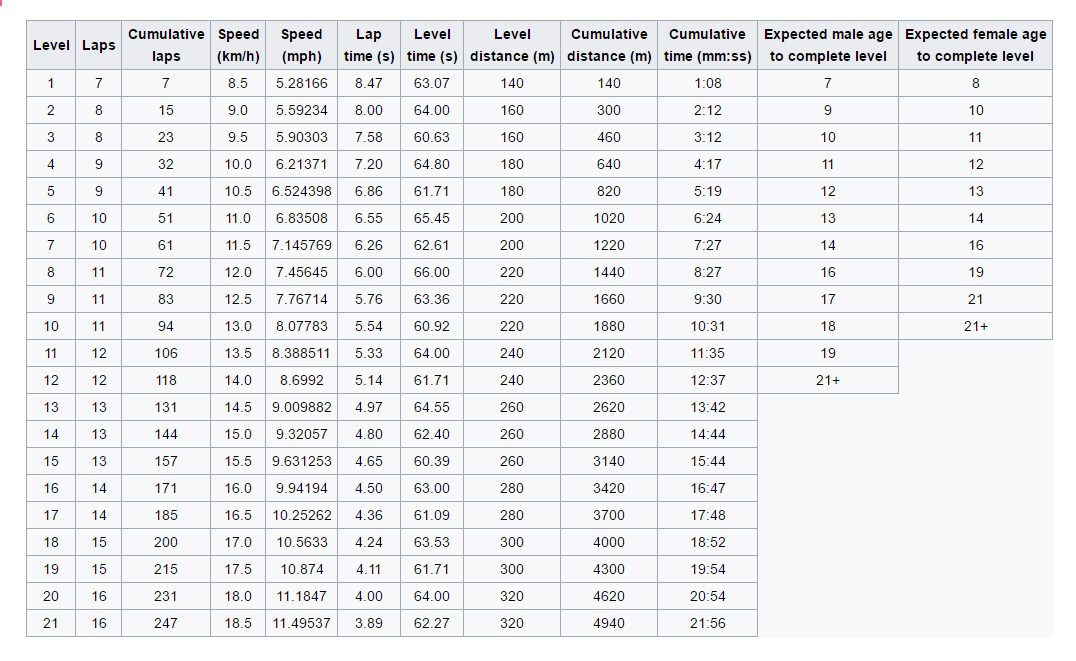table: (21, 16, 1058, 640)
